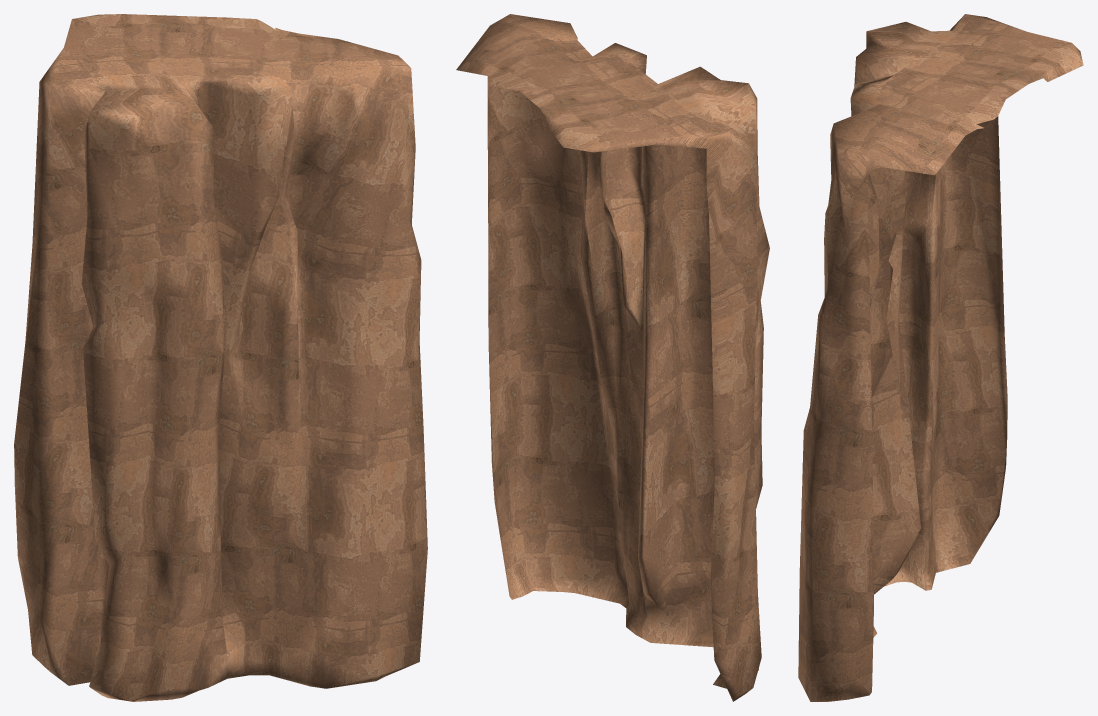
File: Ob_RockCliff30.fbx
The picture shows the model from 3 angles, left to right: view 1: azimuth 30°, elevation 25°; view 2: azimuth 150°, elevation 25°; view 3: azimuth 270°, elevation 25°; orthographic projection. The views are drawn at different scales.
Parts seen in each view (by area): view 1: Ob_RockCliff30; view 2: Ob_RockCliff30; view 3: Ob_RockCliff30.
Part boxes in pixels (<box>): Ob_RockCliff30: <box>14,14,427,701</box>; Ob_RockCliff30: <box>456,14,769,701</box>; Ob_RockCliff30: <box>798,14,1083,701</box>.
Bounding box in the file's own units: 36012 × 63253 × 28650.
